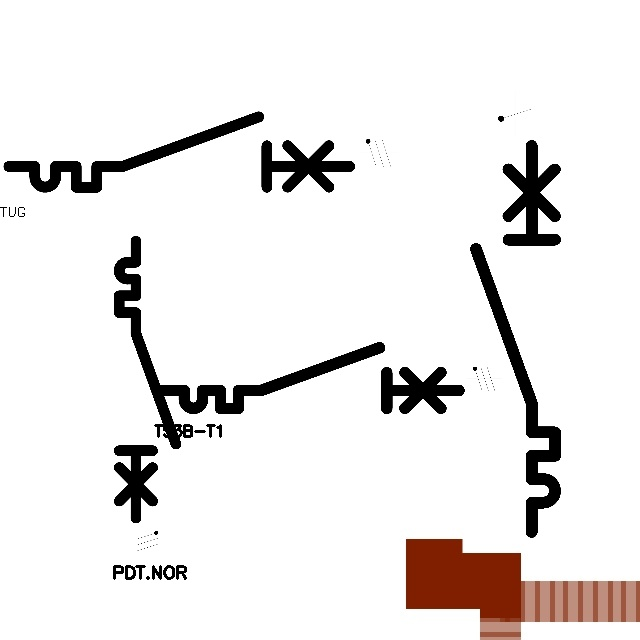interruptor_termomagnetico: (466, 135, 565, 541), (0, 108, 359, 196), (154, 340, 466, 416), (112, 234, 183, 525)
